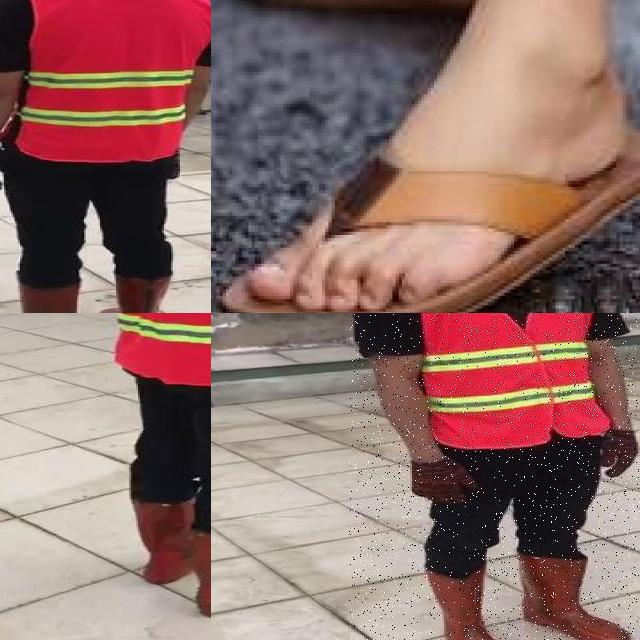Sandals: (211, 0, 640, 313)
boots: (520, 553, 632, 640), (424, 564, 512, 640), (131, 497, 191, 584), (96, 277, 171, 313), (0, 280, 80, 313)
hand_glove: (0, 146, 11, 191)
person: (349, 313, 640, 640), (0, 0, 211, 313), (78, 313, 211, 626)
vest: (13, 0, 211, 165), (417, 313, 609, 449), (88, 313, 211, 386)
